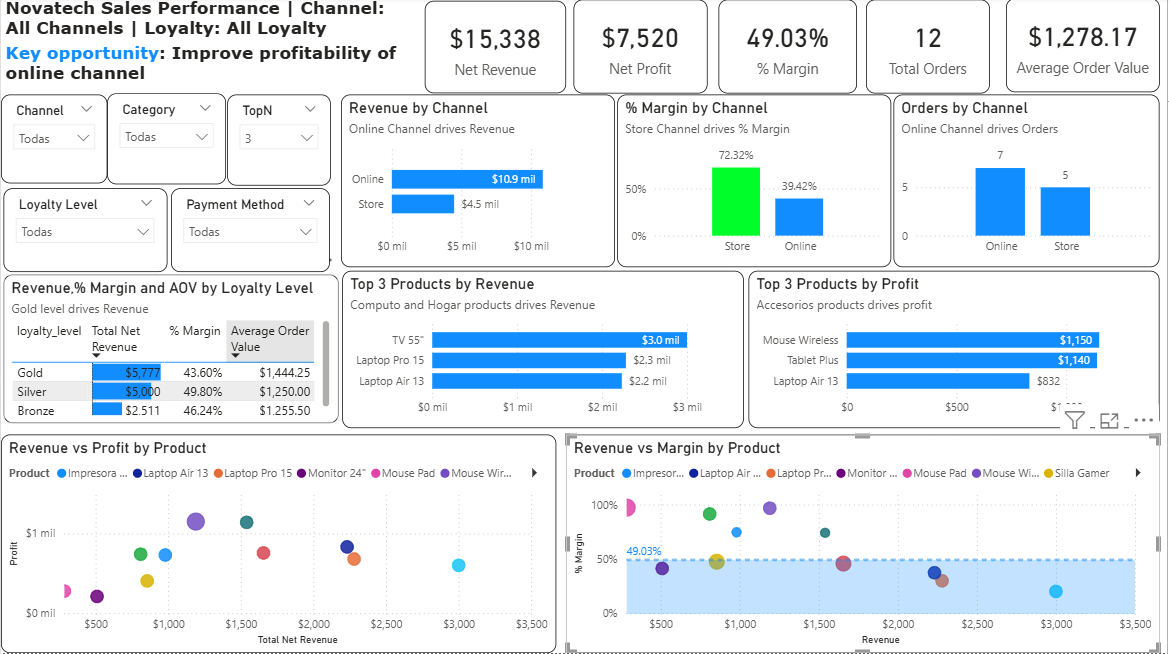

The page's visual inventory and layout, read from the dashboard file:
{"tool":"powerbi","page":{"name":"Duplicado de Página 3","canvas":[1280,720],"ordinal":3},"visuals":[{"type":"card","fields":{"Values":["_Medidas.% Margin"]},"box":[787.7,2.7,152.3,102.9],"z":0},{"type":"card","fields":{"Values":["_Medidas.Total Net Revenue"]},"box":[465.2,4.1,155.1,101.5],"z":1000},{"type":"card","fields":{"Values":["_Medidas.Total Net Profit"]},"box":[628.5,2.7,146.8,102.9],"z":2000},{"type":"card","fields":{"Values":["_Medidas.Average Order Value"]},"box":[1103.3,1.4,168.8,102.9],"z":3000},{"type":"card","fields":{"Values":["_Medidas.Total Orders"]},"box":[949.6,2.7,135.8,102.9],"z":4000},{"type":"barChart","title":"Revenue by Channel","fields":{"Category":["sales.channel"],"Y":["_Medidas.Total Net Revenue"]},"box":[373.2,107,300.5,189.4],"z":5000},{"type":"clusteredColumnChart","title":"% Margin by Channel","fields":{"Y":["_Medidas.% Margin"],"Category":["sales.channel"]},"box":[676.5,107,300.5,189.4],"z":6000},{"type":"clusteredColumnChart","title":"Orders by Channel","fields":{"Category":["sales.channel"],"Y":["_Medidas.Total Orders"]},"box":[979.8,107,292.3,189.4],"z":7000},{"type":"clusteredBarChart","fields":{"Y":["_Medidas.Total Net Revenue"],"Category":["products.product_name"]},"box":[374.6,300.5,440.5,172.9],"z":8000},{"type":"clusteredBarChart","fields":{"Category":["products.product_name"],"Y":["_Medidas.Total Net Profit"]},"box":[820.6,300.5,451.5,172.9],"z":9000},{"type":"scatterChart","title":"Revenue vs Margin by Product","fields":{"X":["_Medidas.Total Net Revenue"],"Y":["_Medidas.% Margin"],"Series":["products.product_name"],"Size":["Sum(sales.quantity)"]},"box":[620.2,480.3,651.8,240.1],"z":10000},{"type":"tableEx","title":"Revenue,% Margin and AOV by Loyalty Level","fields":{"Values":["customers.loyalty_level","_Medidas.Total Net Revenue","_Medidas.% Margin","_Medidas.Average Order Value"]},"box":[2.7,304.6,367.8,163.3],"z":11000},{"type":"slicer","fields":{"Values":["sales.channel"]},"box":[0,107,116.6,97.4],"z":12000},{"type":"slicer","fields":{"Values":["customers.loyalty_level"]},"box":[2.7,209.9,179.8,91.9],"z":13000},{"type":"slicer","fields":{"Values":["products.category"]},"box":[116.6,105.7,130.4,100.2],"z":14000},{"type":"slicer","fields":{"Values":["sales.payment_method"]},"box":[186.6,209.9,174.3,91.9],"z":15000},{"type":"scatterChart","title":"Revenue vs Profit by Product","fields":{"X":["_Medidas.Total Net Revenue"],"Y":["_Medidas.Total Net Profit"],"Series":["products.product_name"],"Size":["_Medidas.Total Orders"]},"box":[0,480.3,609.3,240.1],"z":16000},{"type":"textbox","box":[0,0,446,105.7],"z":17000},{"type":"slicer","fields":{"Values":["Top N Selector.TopN"]},"box":[248.4,107,113.9,100.2],"z":17001}]}

Visuals, with their boxes in screenshot pixels (x1, y1, x2, y2), scaled from the page's 1280x720 canvas onto the 1169x654 screenshot:
card - _Medidas.% Margin: left=719, top=2, right=858, bottom=96
card - _Medidas.Total Net Revenue: left=425, top=4, right=567, bottom=96
card - _Medidas.Total Net Profit: left=574, top=2, right=708, bottom=96
card - _Medidas.Average Order Value: left=1008, top=1, right=1162, bottom=95
card - _Medidas.Total Orders: left=867, top=2, right=991, bottom=96
"Revenue by Channel" barChart: left=341, top=97, right=615, bottom=269
"% Margin by Channel" clusteredColumnChart: left=618, top=97, right=892, bottom=269
"Orders by Channel" clusteredColumnChart: left=895, top=97, right=1162, bottom=269
clusteredBarChart - _Medidas.Total Net Revenue x products.product_name: left=342, top=273, right=744, bottom=430
clusteredBarChart - products.product_name x _Medidas.Total Net Profit: left=749, top=273, right=1162, bottom=430
"Revenue vs Margin by Product" scatterChart: left=566, top=436, right=1162, bottom=653
"Revenue,% Margin and AOV by Loyalty Level" tableEx: left=2, top=277, right=338, bottom=425
slicer - sales.channel: left=0, top=97, right=106, bottom=186
slicer - customers.loyalty_level: left=2, top=191, right=167, bottom=274
slicer - products.category: left=106, top=96, right=226, bottom=187
slicer - sales.payment_method: left=170, top=191, right=330, bottom=274
"Revenue vs Profit by Product" scatterChart: left=0, top=436, right=556, bottom=653
textbox: left=0, top=0, right=407, bottom=96
slicer - Top N Selector.TopN: left=227, top=97, right=331, bottom=188
